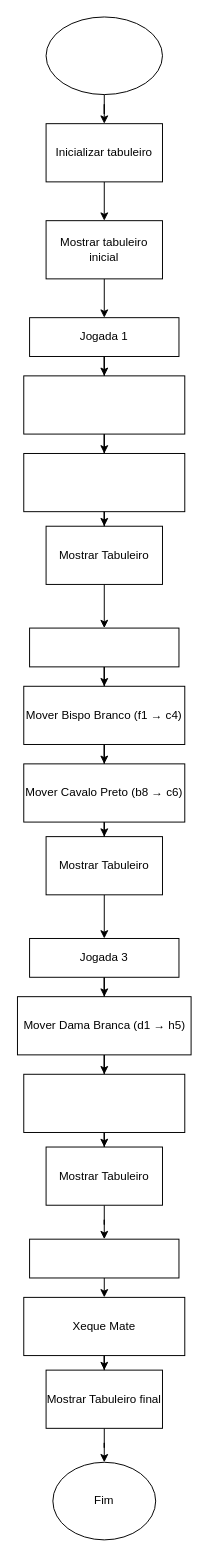
This 208x1557 diagram has some shape labels left out. Each missing label, with the centre of its shape:
"Inicio" belongs at [103,55].
"Jogada 2" belongs at [104,647].
"Jogada 4" belongs at [104,1258].
"Mover Cavalo Preto (g8 → f6)" belongs at [104,1102].
"Mover Peão Branco (e2 → e4)" belongs at [104,404].
"Mover Peão Preto (e7 → e5)" belongs at [104,482].
